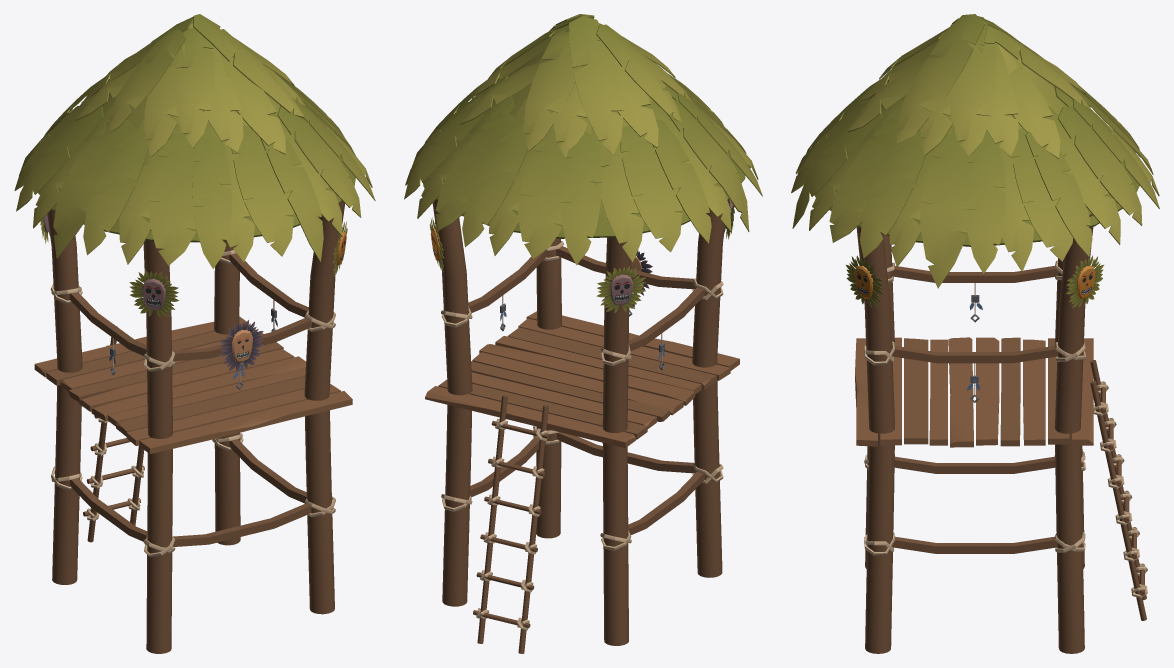
Rendered from Watchtower_01.fbx.
3 views of the same model, side by side, from view 1: azimuth 30°, elevation 25°; view 2: azimuth 150°, elevation 25°; view 3: azimuth 270°, elevation 25° (orthographic). The views are drawn at different scales.
Visible parts, largest first — view 1: Watchtower_01_LOD0; view 2: Watchtower_01_LOD0; view 3: Watchtower_01_LOD0.
Part boxes in pixels (left/top/right/bottom): Watchtower_01_LOD0: left=14, top=14, right=375, bottom=653; Watchtower_01_LOD0: left=404, top=14, right=762, bottom=653; Watchtower_01_LOD0: left=791, top=14, right=1159, bottom=653.
Size of what is drawn, in the model's own units: 3.07 by 5.42 by 3.04.
